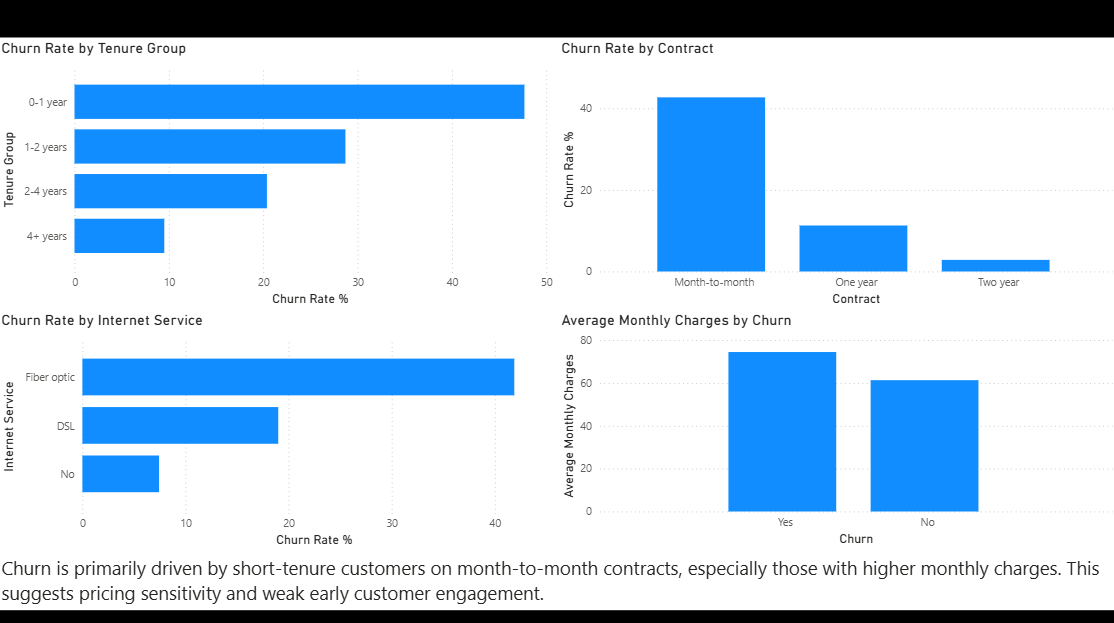

Layout of this report page (visuals, bound fields, positions):
{"tool":"powerbi","page":{"name":"Churn Drivers","canvas":[1280,720],"ordinal":1},"visuals":[{"type":"shape","box":[0,0,1280,48.6],"z":0},{"type":"shape","box":[0,702.9,1280,17.1],"z":1},{"type":"clusteredColumnChart","title":"Churn Rate by Contract","fields":{"Category":["churn_risk_model.Contract"],"Y":["churn_risk_model.Churn Rate %"]},"box":[640,50,640,310],"z":2},{"type":"clusteredBarChart","title":"Churn Rate by Tenure Group","fields":{"Category":["churn_risk_model.Tenure Group"],"Y":["churn_risk_model.Churn Rate %"]},"box":[0,50,640,310],"z":3},{"type":"clusteredColumnChart","title":"Average Monthly Charges by Churn","fields":{"Category":["churn_risk_model.Churn"],"Y":["Avg(churn_risk_model.MonthlyCharges)"]},"box":[640,361.4,640,272.9],"z":4},{"type":"clusteredBarChart","title":"Churn Rate by Internet Service","fields":{"Category":["churn_risk_model.InternetService"],"Y":["churn_risk_model.Churn Rate %"]},"box":[0,361.4,640,274.3],"z":5},{"type":"textbox","box":[0,634.3,1280,68.6],"z":6}]}

Visuals, with their boxes in screenshot pixels (x1, y1, x2, y2), scaled from the page's 1280x720 canvas onto the 1114x623 screenshot:
shape: (left=0, top=0, right=1113, bottom=42)
shape: (left=0, top=608, right=1113, bottom=622)
"Churn Rate by Contract" clusteredColumnChart: (left=557, top=43, right=1113, bottom=312)
"Churn Rate by Tenure Group" clusteredBarChart: (left=0, top=43, right=557, bottom=312)
"Average Monthly Charges by Churn" clusteredColumnChart: (left=557, top=313, right=1113, bottom=549)
"Churn Rate by Internet Service" clusteredBarChart: (left=0, top=313, right=557, bottom=550)
textbox: (left=0, top=549, right=1113, bottom=608)
